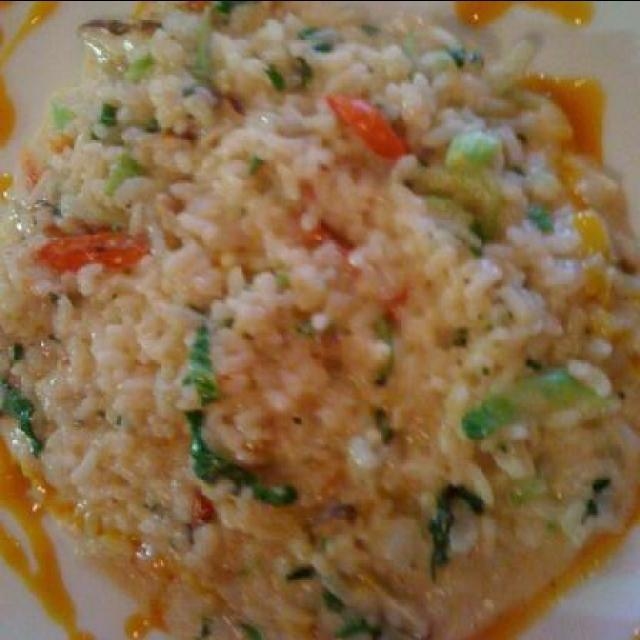Risotto: (54, 24, 638, 600)
